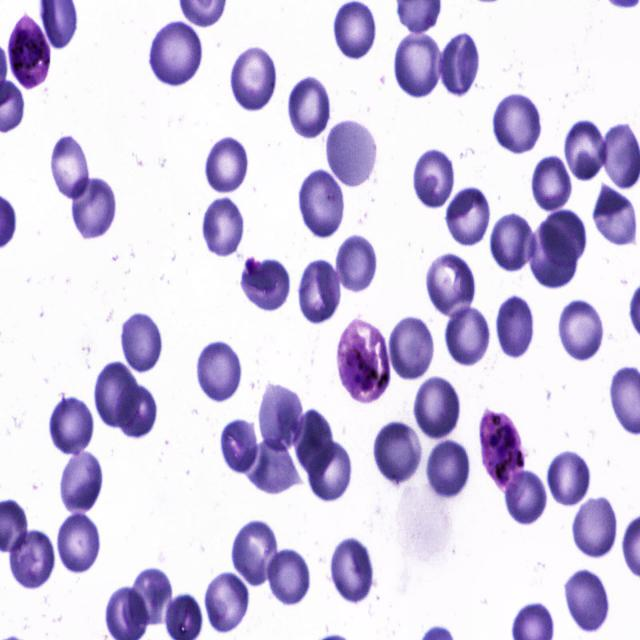difficult: (6, 14, 52, 91)
red blood cell: (93, 356, 142, 430), (298, 167, 347, 241), (148, 20, 202, 86), (326, 120, 376, 190), (373, 416, 422, 487), (239, 440, 302, 495), (392, 30, 442, 99), (426, 251, 476, 319), (528, 220, 576, 290), (492, 90, 542, 157), (442, 304, 492, 368), (196, 337, 245, 402), (258, 382, 302, 453), (412, 376, 460, 441), (436, 32, 484, 97), (202, 571, 250, 635), (232, 522, 280, 586), (60, 449, 106, 515), (557, 300, 604, 363), (566, 567, 610, 634), (205, 132, 251, 196), (49, 392, 95, 456), (592, 184, 638, 248), (239, 258, 291, 314), (330, 538, 374, 604), (298, 258, 342, 324), (58, 512, 103, 576), (389, 315, 433, 380), (490, 212, 536, 274), (539, 210, 588, 268), (71, 177, 116, 240), (231, 48, 276, 111), (266, 546, 312, 607), (48, 134, 91, 199), (7, 531, 56, 588), (288, 74, 330, 140), (293, 410, 335, 476), (446, 187, 490, 249), (202, 198, 247, 258), (564, 120, 607, 182), (530, 153, 574, 213), (427, 440, 470, 501), (572, 498, 616, 557), (412, 149, 455, 209), (333, 1, 377, 59), (336, 234, 378, 294), (550, 450, 592, 510), (308, 440, 350, 500), (496, 294, 534, 359), (116, 383, 160, 438), (121, 314, 162, 372), (132, 567, 172, 626), (505, 471, 547, 526), (218, 419, 258, 473)
trophozoite: (338, 316, 390, 402), (479, 407, 527, 497)
